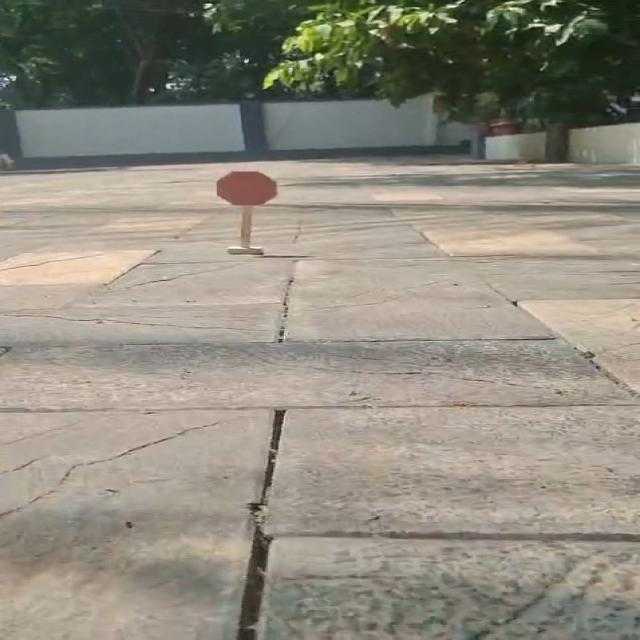Stop: (204, 165, 291, 215)
